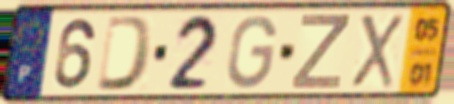2: (162, 11, 224, 95)
6: (52, 16, 98, 92)
D: (93, 13, 156, 93)
G: (224, 13, 279, 91)
X: (348, 12, 405, 91)
Z: (288, 12, 352, 91)
